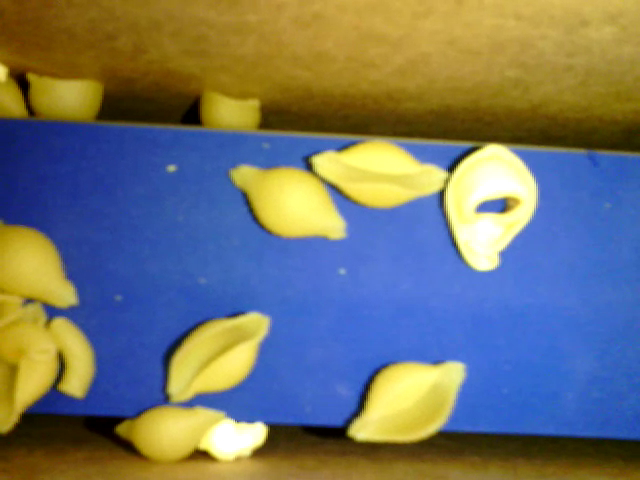elbow: (48, 312, 96, 399), (1, 325, 55, 361)
shell: (346, 358, 465, 443), (165, 309, 271, 402), (309, 137, 450, 205), (230, 165, 347, 241), (1, 302, 60, 434), (1, 222, 80, 307), (115, 402, 225, 462), (28, 70, 104, 123), (197, 89, 261, 134)
tortellini: (442, 143, 541, 272)
